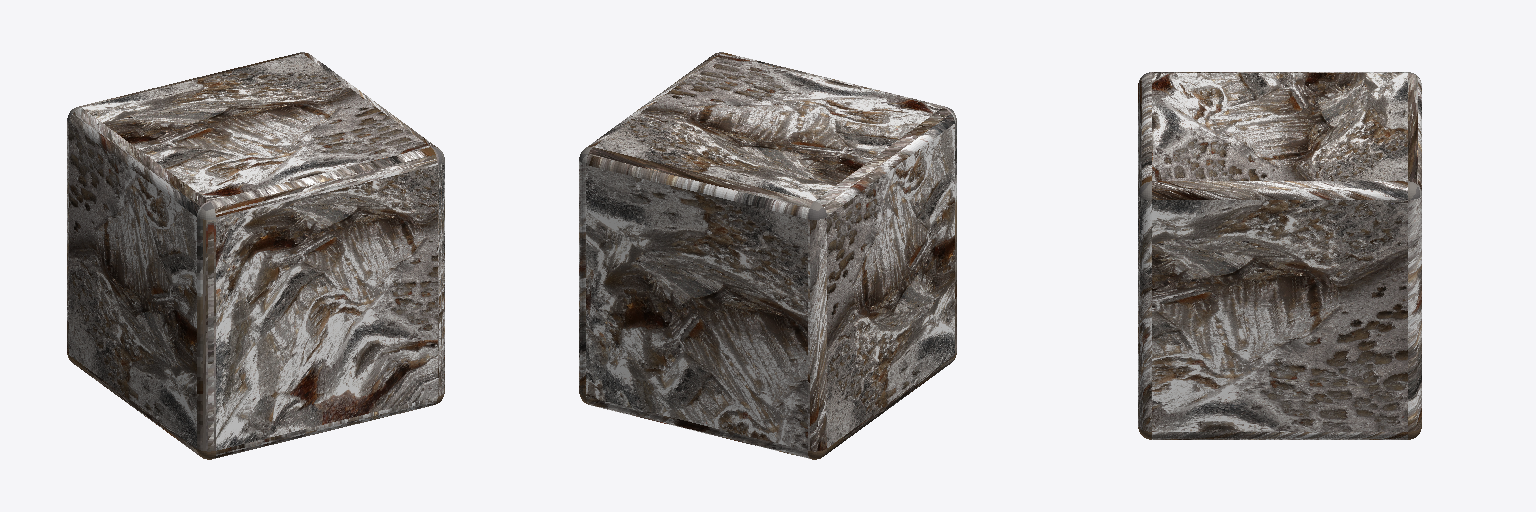
3 views of the same model, side by side, from view 1: azimuth 30°, elevation 25°; view 2: azimuth 150°, elevation 25°; view 3: azimuth 270°, elevation 25° (orthographic).
Visible parts, largest first — view 1: Cube; view 2: Cube; view 3: Cube.
Boxes of the visible parts, x1=… form: Cube: x1=67, y1=52, x2=444, y2=459; Cube: x1=579, y1=52, x2=956, y2=459; Cube: x1=1138, y1=72, x2=1421, y2=439.
Bounding box in the file's own units: 2 × 2 × 2.
Materials: 1 (1 with a texture image).